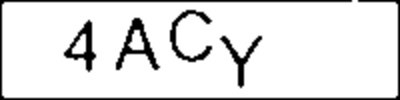4: (59, 18, 101, 75)
A: (109, 14, 163, 73)
C: (163, 5, 218, 63)
Y: (215, 30, 267, 94)
